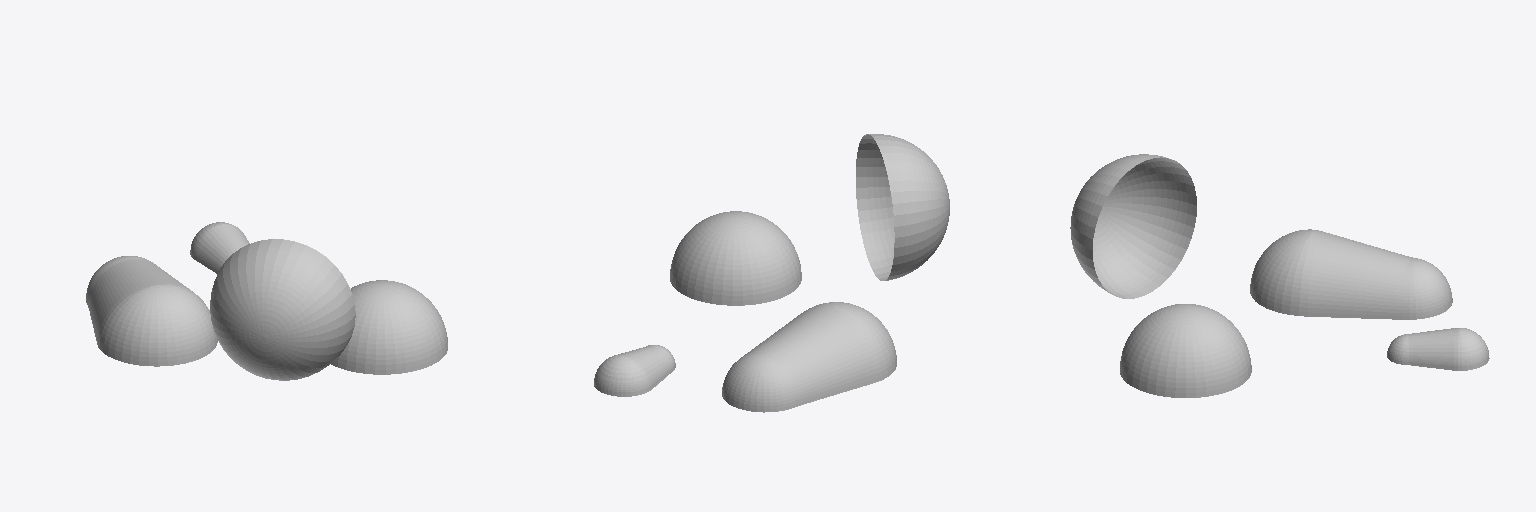
File: playground.obj
The picture shows the model from 3 angles: view 1: azimuth 30°, elevation 25°; view 2: azimuth 150°, elevation 25°; view 3: azimuth 270°, elevation 25°; orthographic projection.
Visible parts, largest first — view 1: initialShadingGroup polySurface8 polySurface3, initialShadingGroup polySurface11, initialShadingGroup pSphere2, initialShadingGroup polySurface18; view 2: initialShadingGroup polySurface11, initialShadingGroup polySurface8 polySurface3, initialShadingGroup pSphere2, initialShadingGroup polySurface18; view 3: initialShadingGroup polySurface8 polySurface3, initialShadingGroup polySurface11, initialShadingGroup pSphere2, initialShadingGroup polySurface18.
Boxes of the visible parts, x1=… form: initialShadingGroup polySurface8 polySurface3: x1=210, y1=239, x2=355, y2=380; initialShadingGroup polySurface11: x1=86, y1=256, x2=217, y2=366; initialShadingGroup pSphere2: x1=331, y1=280, x2=447, y2=374; initialShadingGroup polySurface18: x1=190, y1=222, x2=249, y2=273; initialShadingGroup polySurface11: x1=722, y1=302, x2=896, y2=412; initialShadingGroup polySurface8 polySurface3: x1=856, y1=134, x2=949, y2=280; initialShadingGroup pSphere2: x1=670, y1=211, x2=801, y2=305; initialShadingGroup polySurface18: x1=594, y1=345, x2=675, y2=396; initialShadingGroup polySurface8 polySurface3: x1=1070, y1=154, x2=1196, y2=298; initialShadingGroup polySurface11: x1=1250, y1=229, x2=1452, y2=319; initialShadingGroup pSphere2: x1=1120, y1=304, x2=1251, y2=397; initialShadingGroup polySurface18: x1=1387, y1=328, x2=1489, y2=370.
Bounding box in the file's own units: 14.58 × 7.72 × 19.38.